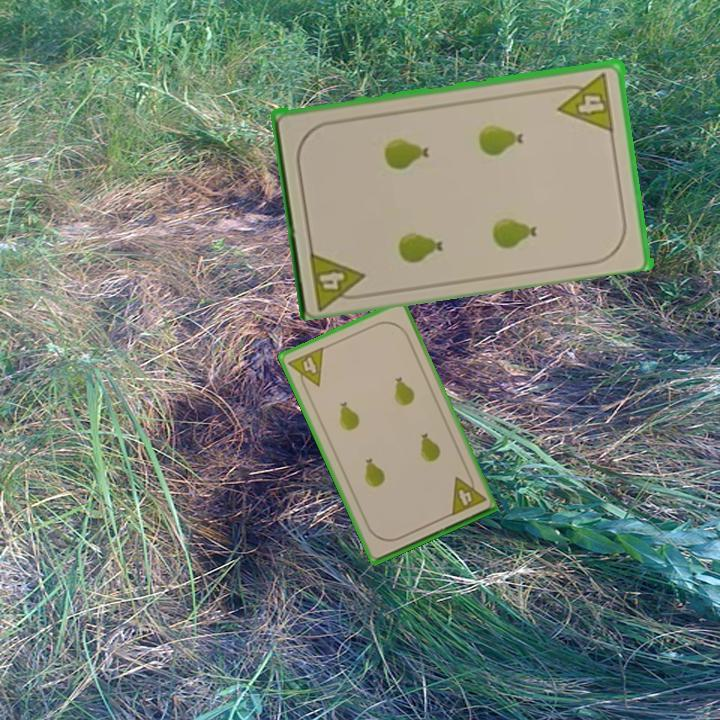4p: (305, 245, 371, 310), (553, 68, 617, 134), (285, 343, 327, 394), (447, 469, 489, 519)
